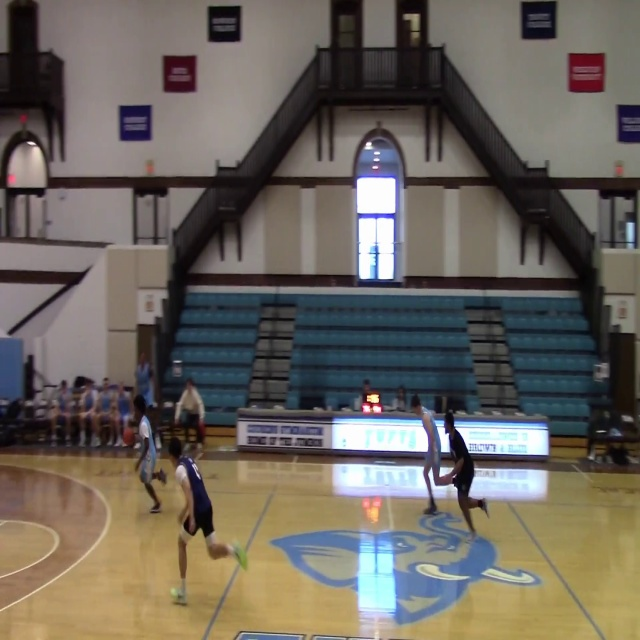Basketball: (122, 427, 135, 445), (170, 587, 178, 597)
